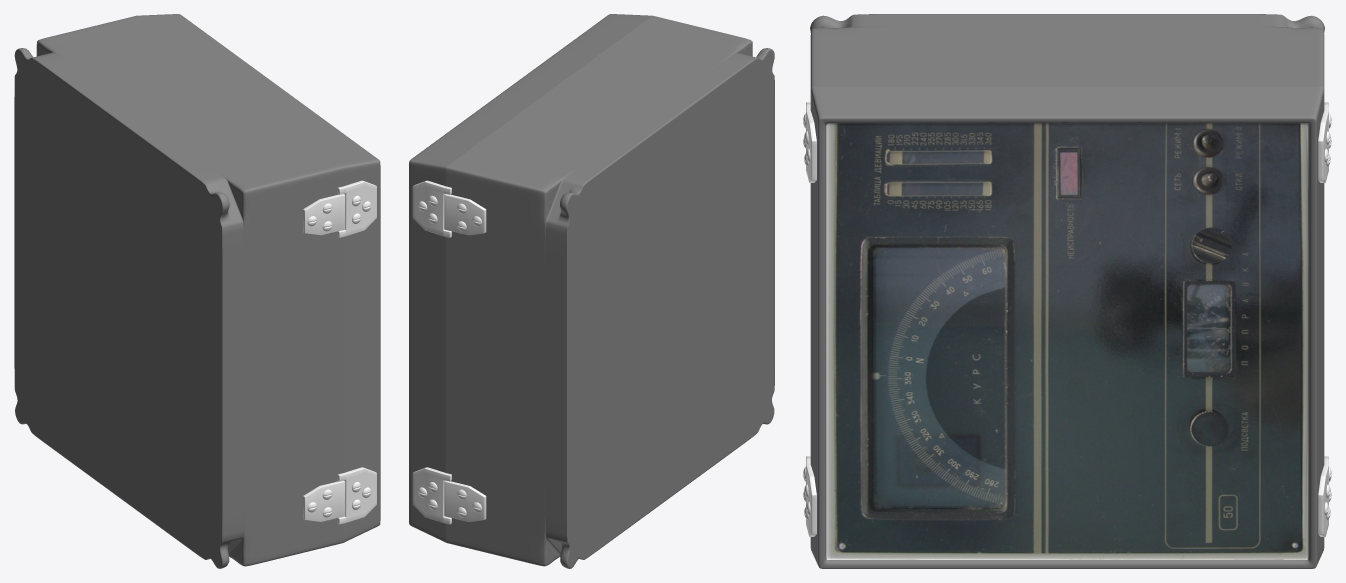
Rendered from pribor 50.fbx.
3 views of the same model, side by side, from view 1: azimuth 30°, elevation 25°; view 2: azimuth 150°, elevation 25°; view 3: azimuth 270°, elevation 25° (orthographic). The views are drawn at different scales.
Parts seen in each view (by area): view 1: Plane; view 2: Plane; view 3: Plane.
Boxes of the visible parts, left/top/right/bottom form: Plane: left=14, top=14, right=380, bottom=568; Plane: left=409, top=14, right=774, bottom=568; Plane: left=803, top=14, right=1331, bottom=568.
Size of the model in its own units: 22.05 by 49.21 by 50.61.
Materials: 3 (1 with a texture image).
